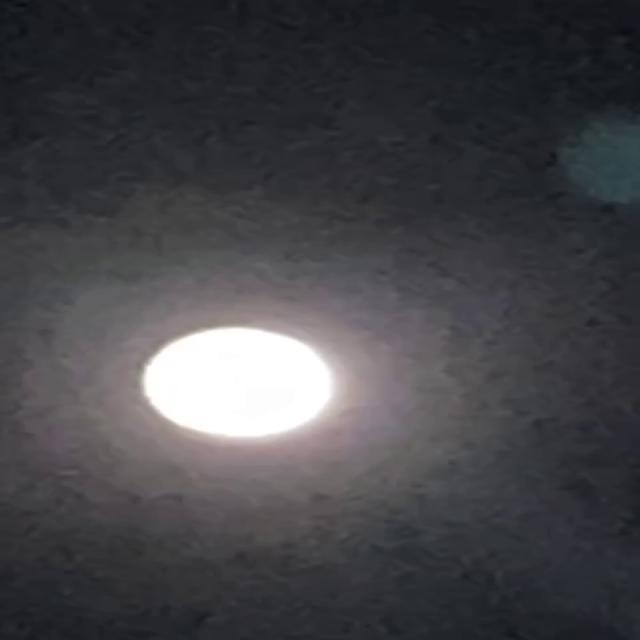moon: (132, 301, 355, 445)
